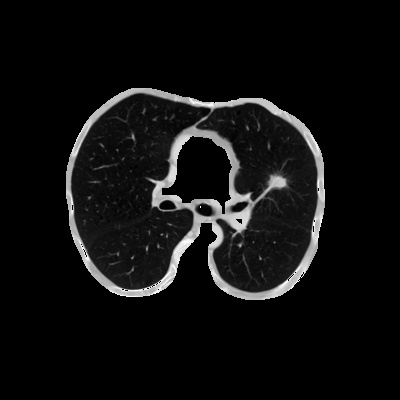PN: (268, 173, 288, 193)
